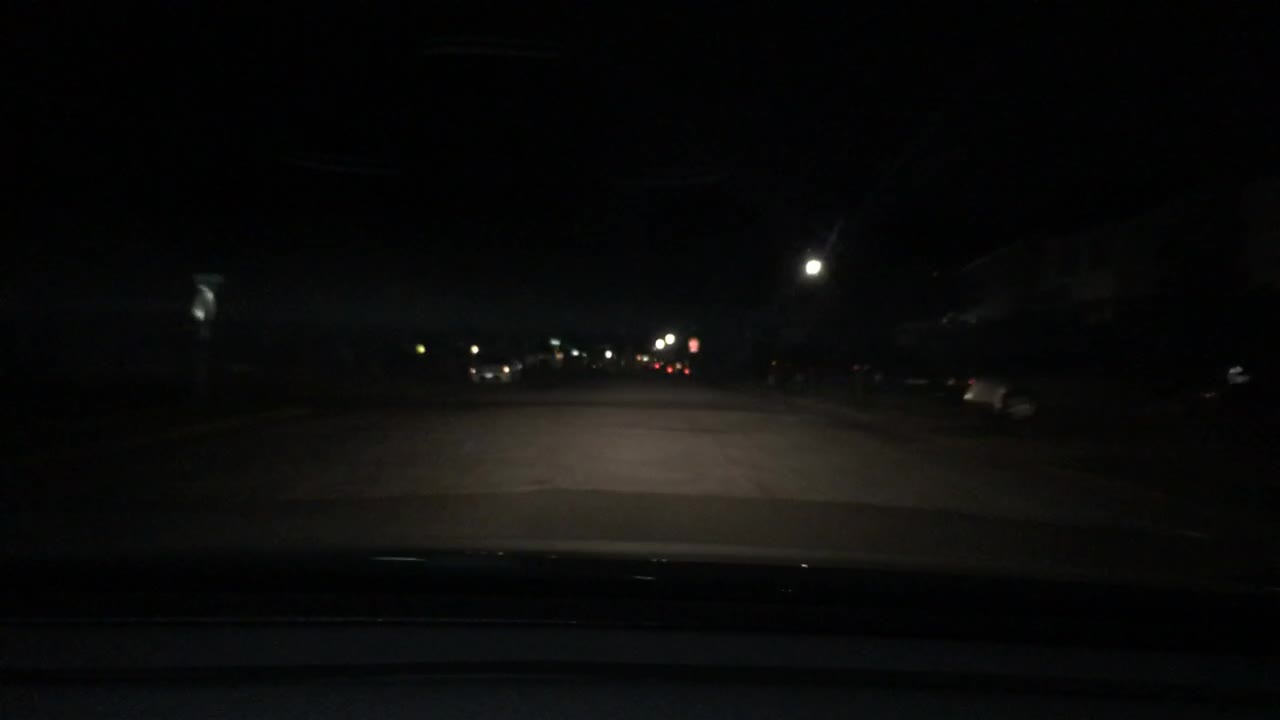car: (961, 317, 1279, 437), (763, 333, 882, 400), (865, 328, 973, 397), (467, 345, 524, 386), (522, 351, 553, 376), (663, 356, 691, 378), (563, 347, 586, 372), (547, 349, 570, 373), (648, 359, 667, 374)
traffic sign: (189, 272, 231, 286), (686, 336, 701, 351)
